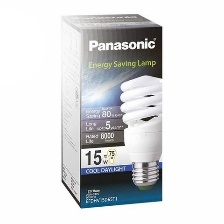carton: (55, 7, 164, 209)
